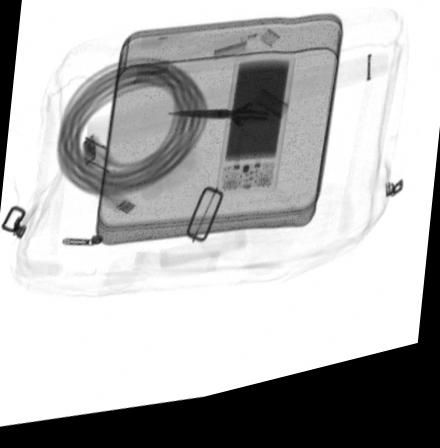Powerbank: (214, 69, 298, 206)
Scissors: (165, 103, 291, 159)
